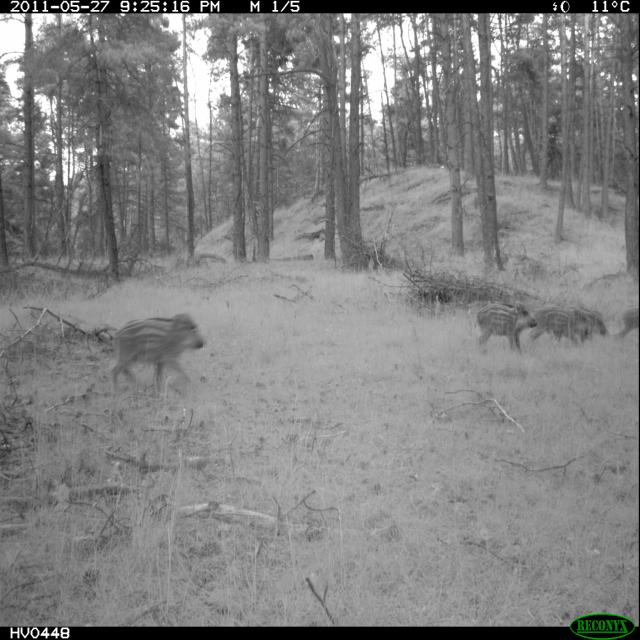boar: (84, 288, 224, 412), (457, 275, 542, 362), (524, 279, 584, 362), (570, 285, 611, 340), (619, 285, 640, 360)
